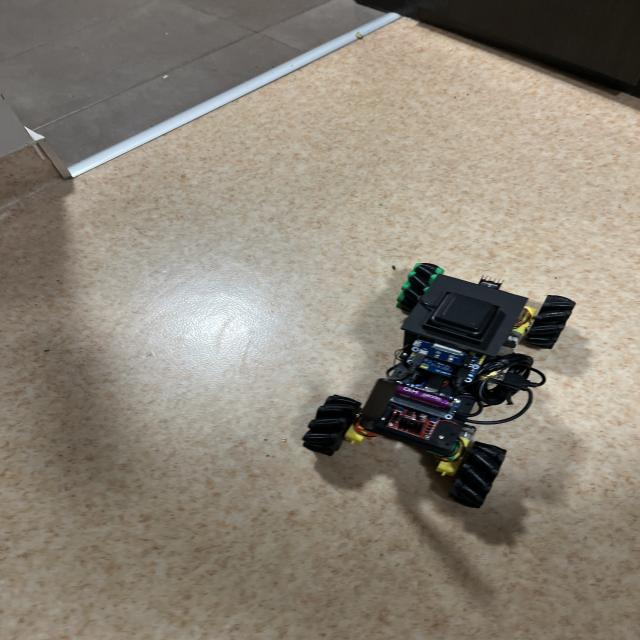robot: (303, 263, 575, 508)
